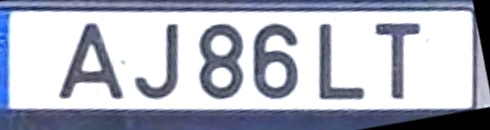6: (253, 22, 301, 102)
8: (197, 23, 246, 102)
A: (57, 23, 127, 100)
J: (133, 24, 181, 102)
L: (318, 22, 366, 101)
T: (373, 23, 422, 100)
